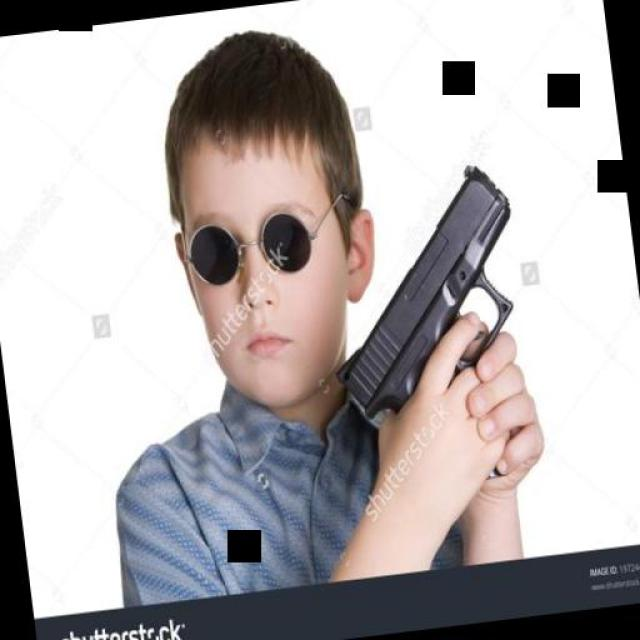gun: (308, 155, 546, 499)
